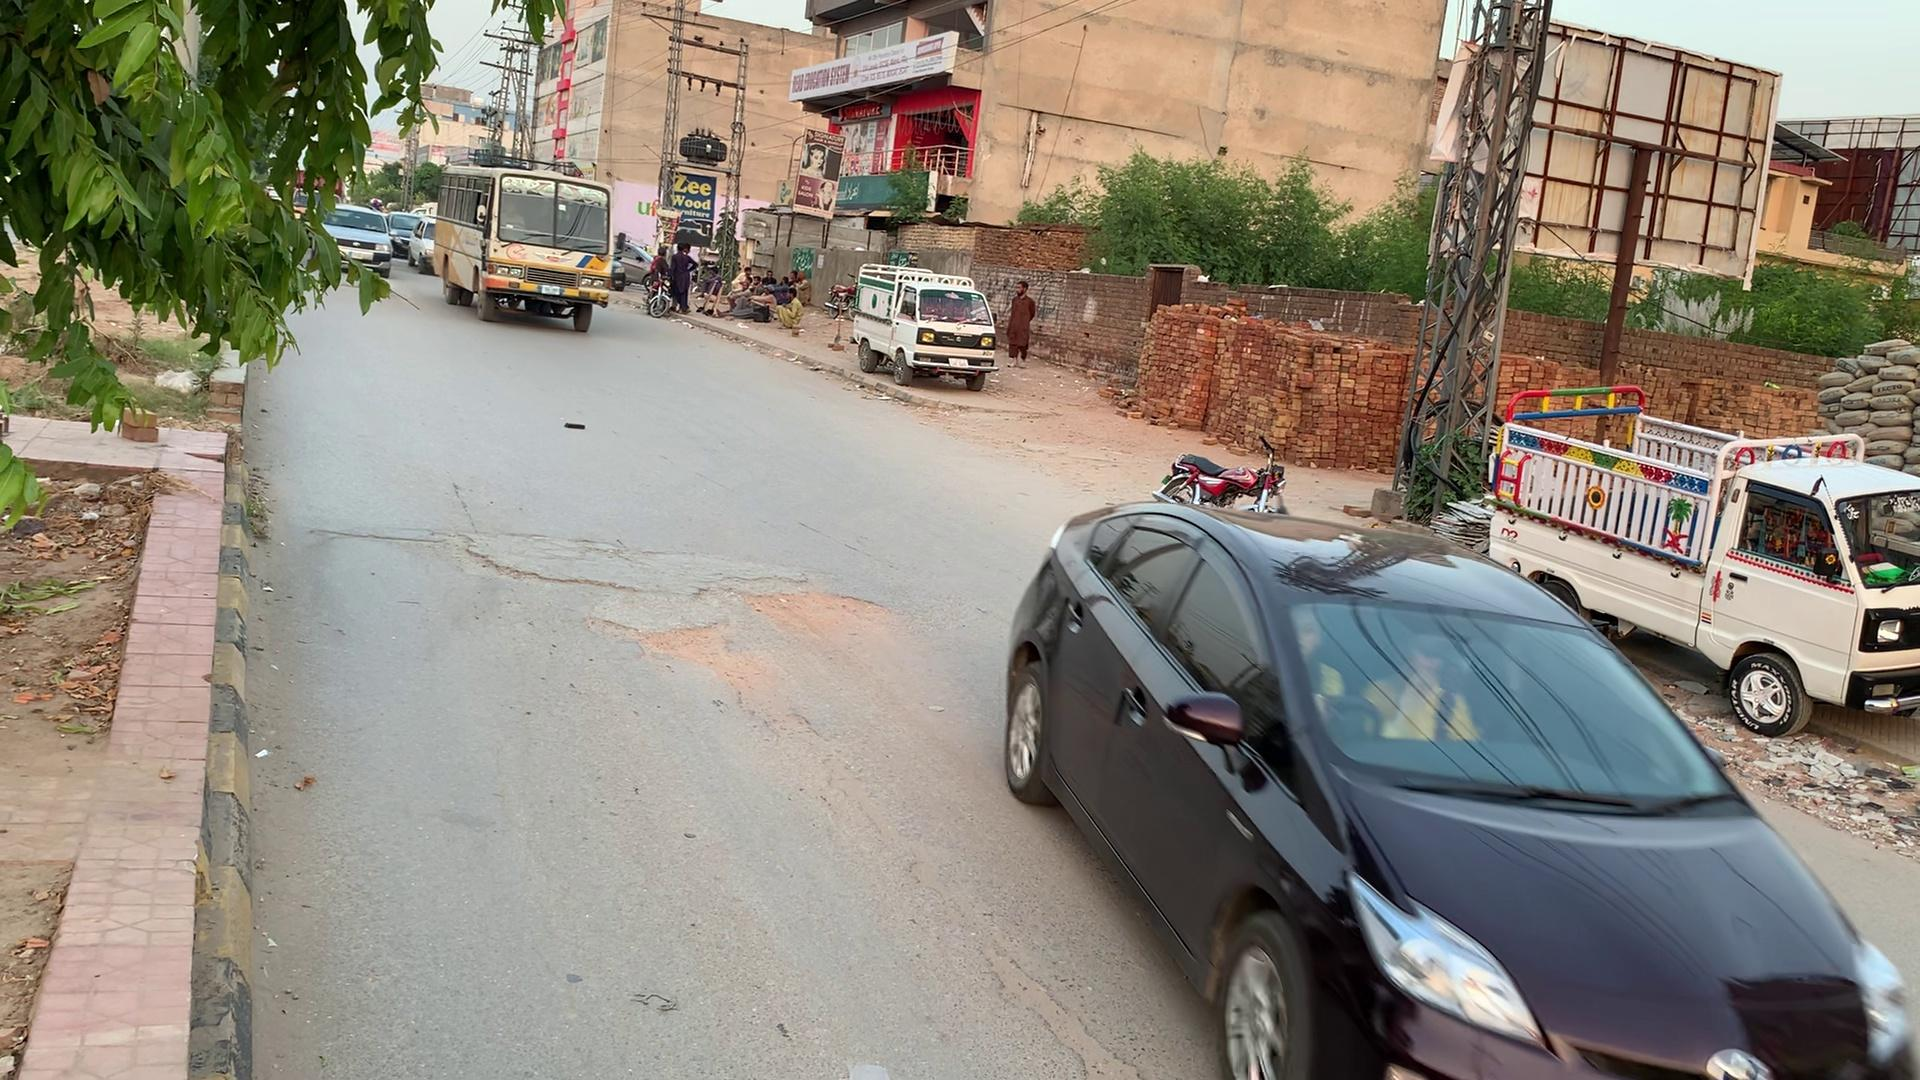windshield: (1257, 576, 1760, 816)
